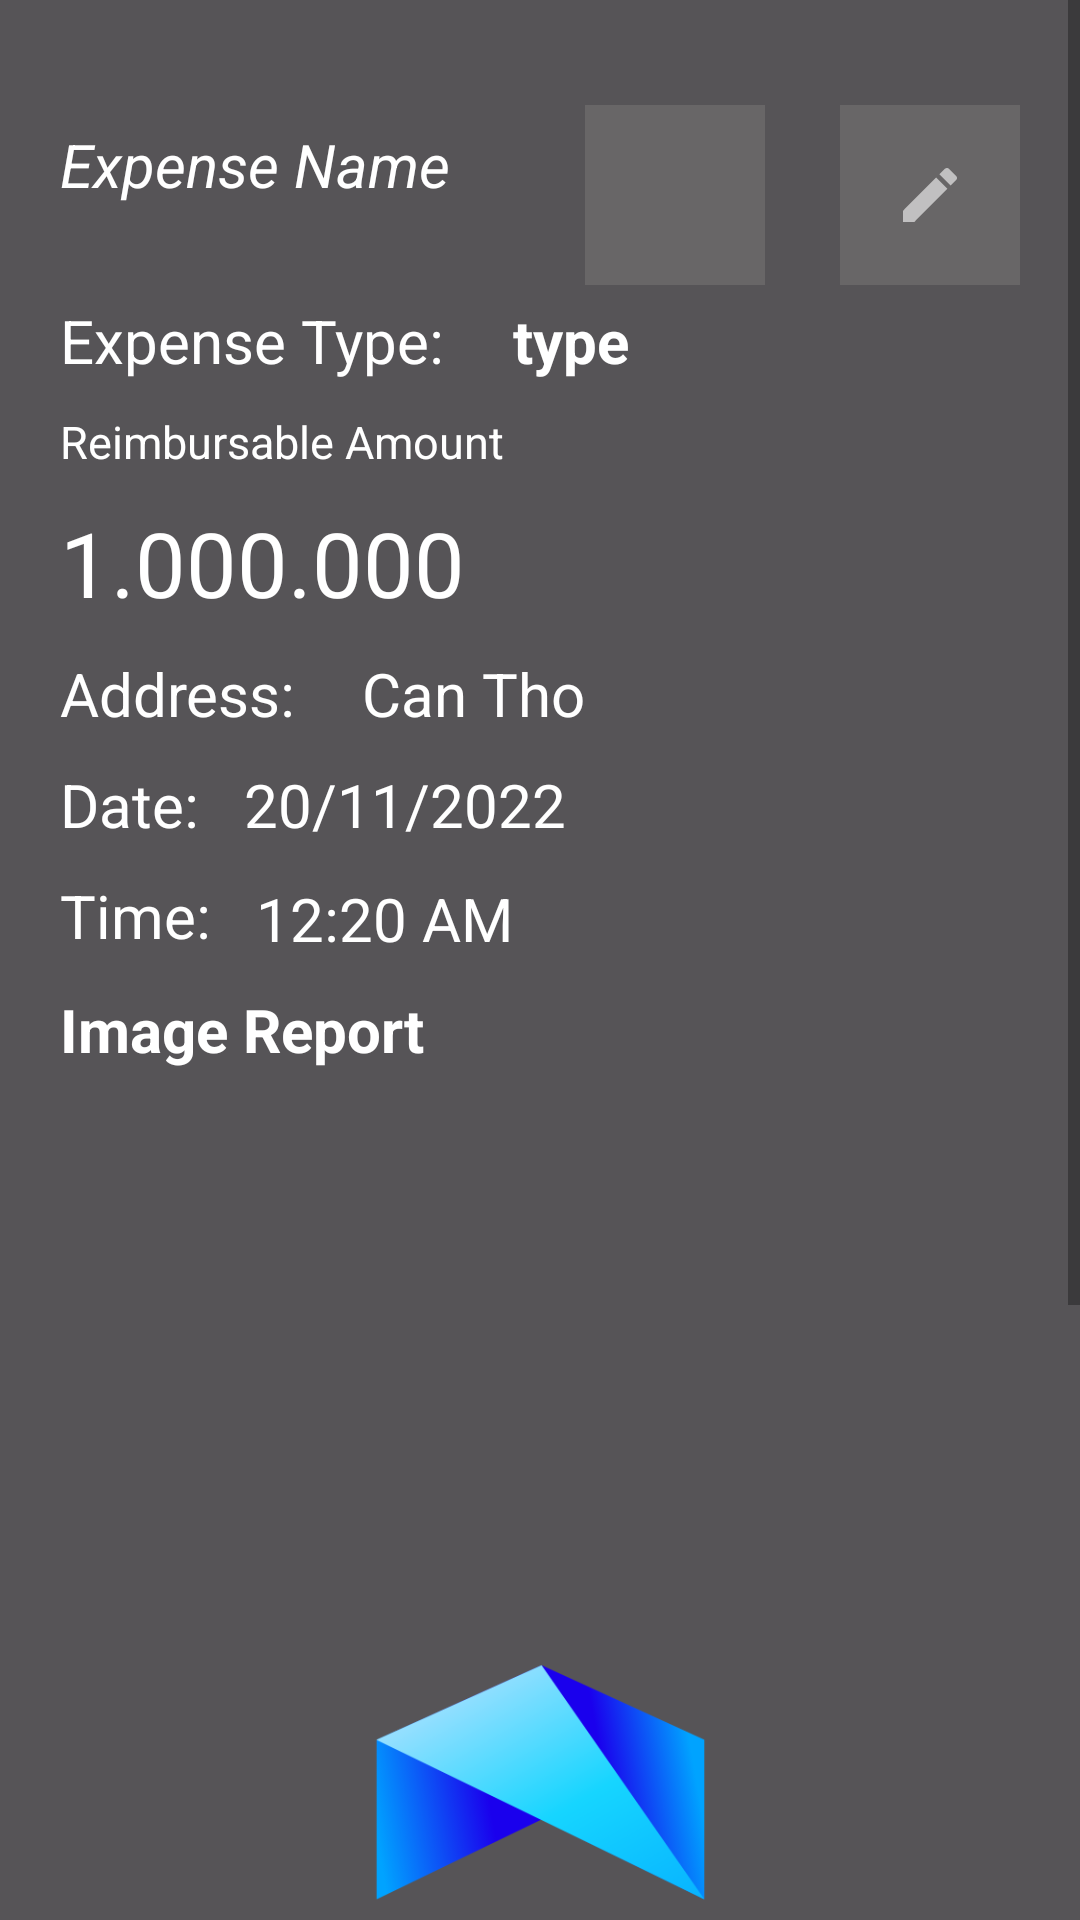

Icon bounding boxes for this 1080 x 1920 phone screenshot, format (x1, y1, x2, y2):
edit: (840, 105, 1020, 285)
